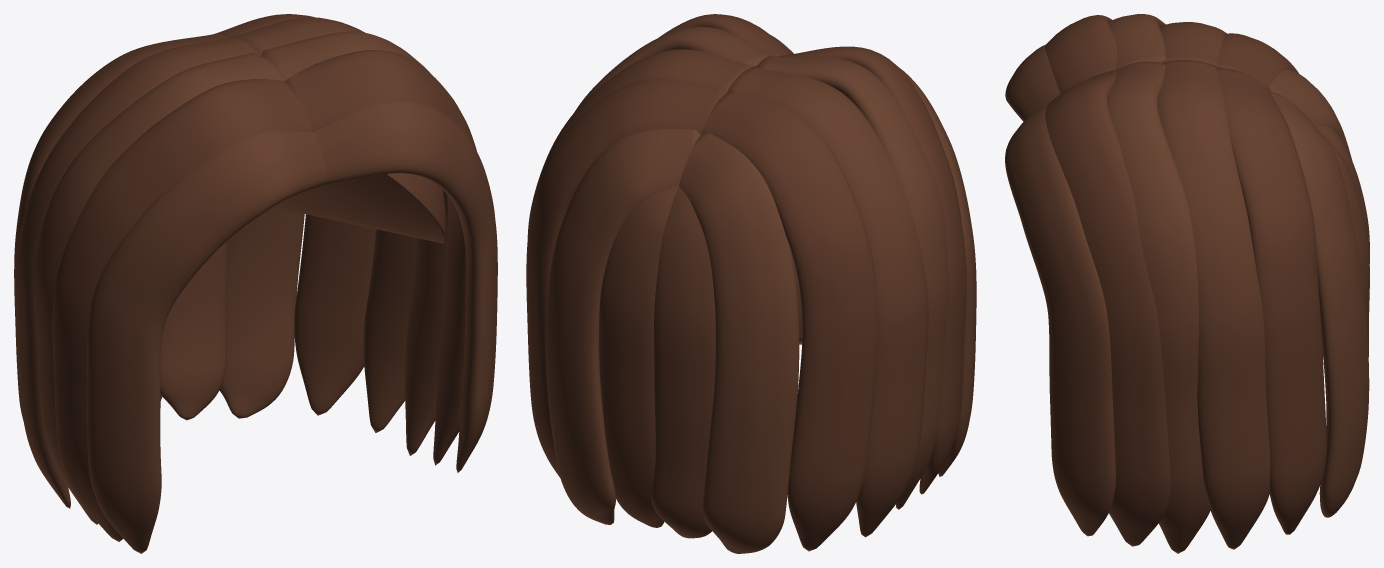
File: hair-straight-sculpted.glb
3 views of the same model, side by side, from view 1: azimuth 30°, elevation 25°; view 2: azimuth 150°, elevation 25°; view 3: azimuth 270°, elevation 25° (orthographic). The views are drawn at different scales.
Parts seen in each view (by area): view 1: Hair / Straight -1 0, Hair / Straight -1 1, Hair / Straight 1 0, Hair / Straight 1 1, Hair / Straight 1 5, Hair / Straight -1 2, Hair / Straight -1 3, Hair / Straight 1 4, Hair / Straight 1 3, Hair / Straight 1 2, Hair / Straight 1 6, Recessed roots (+1 smaller); view 2: Hair / Straight -1 4, Hair / Straight -1 5, Hair / Straight -1 3, Hair / Straight 1 5, Hair / Straight -1 6, Hair / Straight 1 6, Hair / Straight 1 4, Hair / Straight -1 2, Hair / Straight -1 1, Hair / Straight 1 3, Hair / Straight -1 0, Hair / Straight 1 2 (+1 smaller); view 3: Hair / Straight 1 3, Hair / Straight 1 4, Hair / Straight 1 1, Hair / Straight 1 0, Hair / Straight 1 2, Hair / Straight 1 5, Hair / Straight -1 1, Hair / Straight -1 0, Hair / Straight -1 4, Hair / Straight -1 2, Hair / Straight -1 3, Hair / Straight -1 5 (+2 smaller).
Part boxes in pixels (<box>): Hair / Straight -1 0: <box>87,131,327,553</box>; Hair / Straight -1 1: <box>52,79,312,541</box>; Hair / Straight 1 0: <box>313,101,497,472</box>; Hair / Straight 1 1: <box>285,50,476,465</box>; Hair / Straight 1 5: <box>219,207,304,418</box>; Hair / Straight -1 2: <box>34,53,285,524</box>; Hair / Straight -1 3: <box>15,37,259,508</box>; Hair / Straight 1 4: <box>215,14,375,415</box>; Hair / Straight 1 3: <box>232,17,416,432</box>; Hair / Straight 1 2: <box>262,31,447,455</box>; Hair / Straight 1 6: <box>160,241,227,420</box>; Recessed roots: <box>273,173,445,243</box>; Hair / Straight -1 4: <box>701,90,877,551</box>; Hair / Straight -1 5: <box>679,132,799,553</box>; Hair / Straight -1 3: <box>727,66,928,537</box>; Hair / Straight 1 5: <box>545,129,700,524</box>; Hair / Straight -1 6: <box>651,187,715,538</box>; Hair / Straight 1 6: <box>599,186,678,527</box>; Hair / Straight 1 4: <box>526,79,725,477</box>; Hair / Straight -1 2: <box>757,56,948,509</box>; Hair / Straight -1 1: <box>780,46,966,494</box>; Hair / Straight 1 3: <box>527,49,754,237</box>; Hair / Straight -1 0: <box>900,68,976,476</box>; Hair / Straight 1 2: <box>574,26,776,112</box>; Hair / Straight 1 3: <box>1158,60,1270,549</box>; Hair / Straight 1 4: <box>1216,68,1326,534</box>; Hair / Straight 1 1: <box>1045,70,1170,546</box>; Hair / Straight 1 0: <box>1005,102,1115,536</box>; Hair / Straight 1 2: <box>1108,61,1210,553</box>; Hair / Straight 1 5: <box>1270,91,1369,517</box>; Hair / Straight -1 1: <box>1044,15,1116,93</box>; Hair / Straight -1 0: <box>1005,45,1060,121</box>; Hair / Straight -1 4: <box>1216,33,1323,356</box>; Hair / Straight -1 2: <box>1108,14,1165,70</box>; Hair / Straight -1 3: <box>1160,22,1226,67</box>; Hair / Straight -1 5: <box>1269,69,1368,356</box>.
Bounding box in the file's own units: 1.14 × 1.19 × 0.9206.
